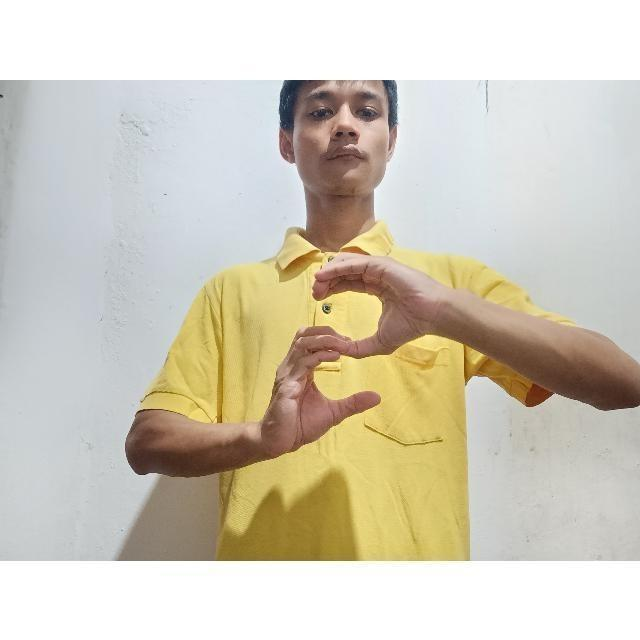S: (248, 252, 430, 451)
